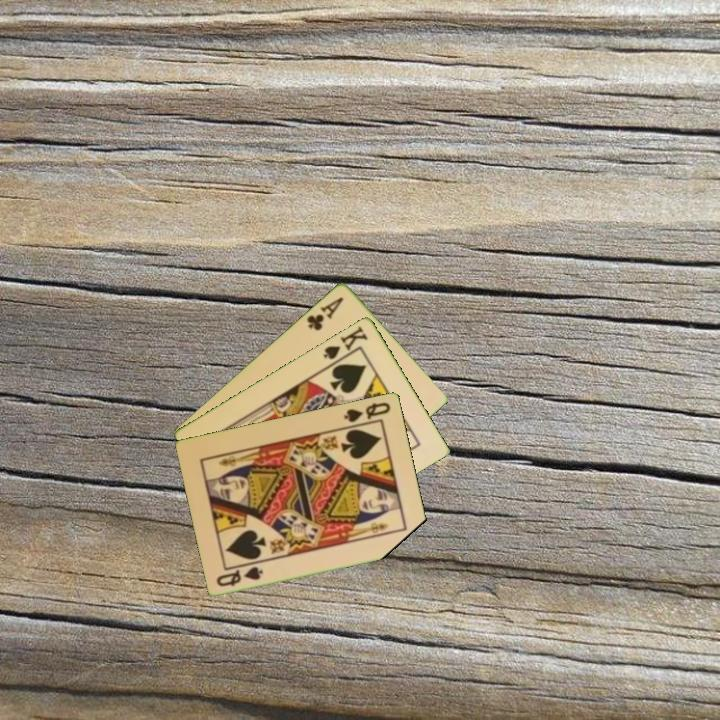Ac: (303, 293, 346, 333)
Ks: (320, 322, 371, 367)
Qs: (341, 398, 393, 425), (213, 563, 266, 589)
